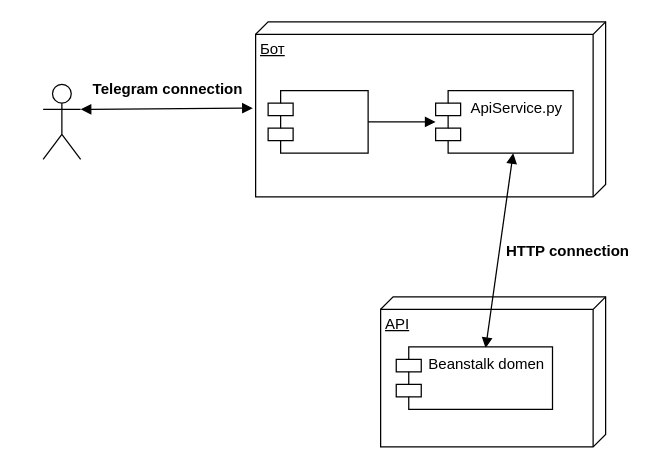
The diagram is 651 pixels wide and 469 high, and some of its shapes have lost their labels. Here are the shapes that lost their labels. From the top down, the box of each, then its label:
(42, 83, 81, 159): Користувач
(267, 89, 368, 153): main.py
